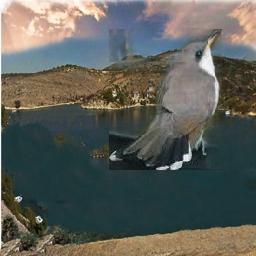Cuckoo: (110, 30, 223, 171)
